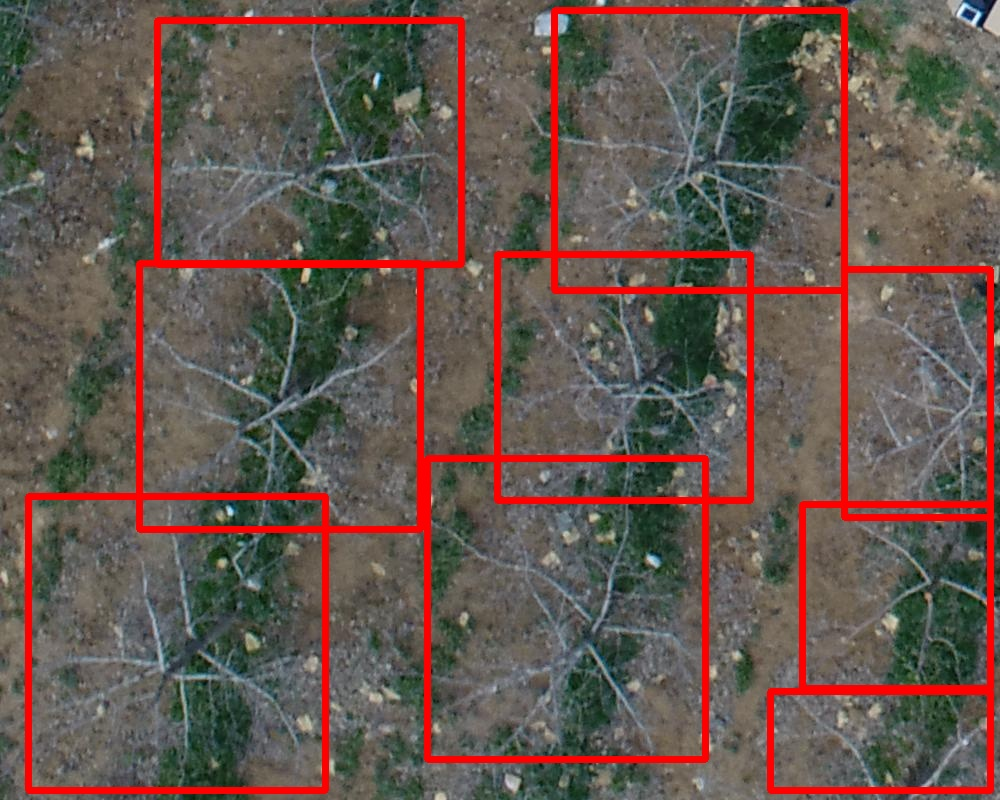apple: (28, 496, 325, 790), (427, 458, 705, 759), (554, 10, 844, 290), (139, 263, 420, 529), (157, 20, 461, 264), (497, 254, 750, 500), (844, 269, 990, 517), (802, 504, 990, 688), (770, 691, 990, 790)
